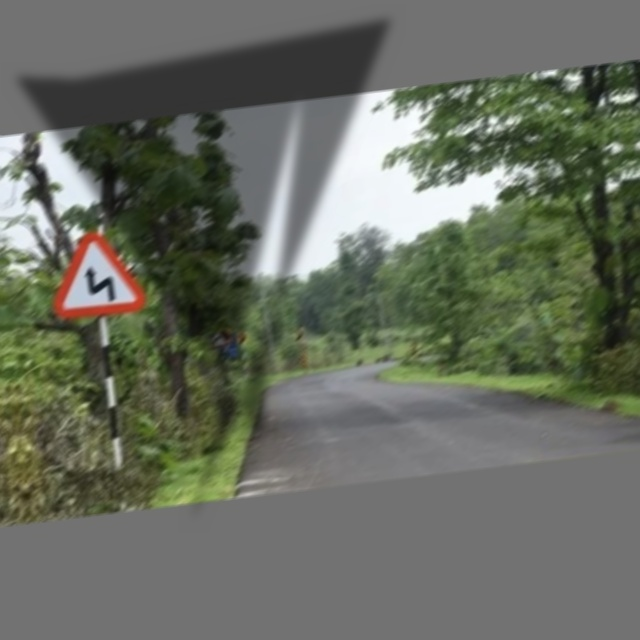Left_Reverse_Bend: (45, 225, 143, 322)
